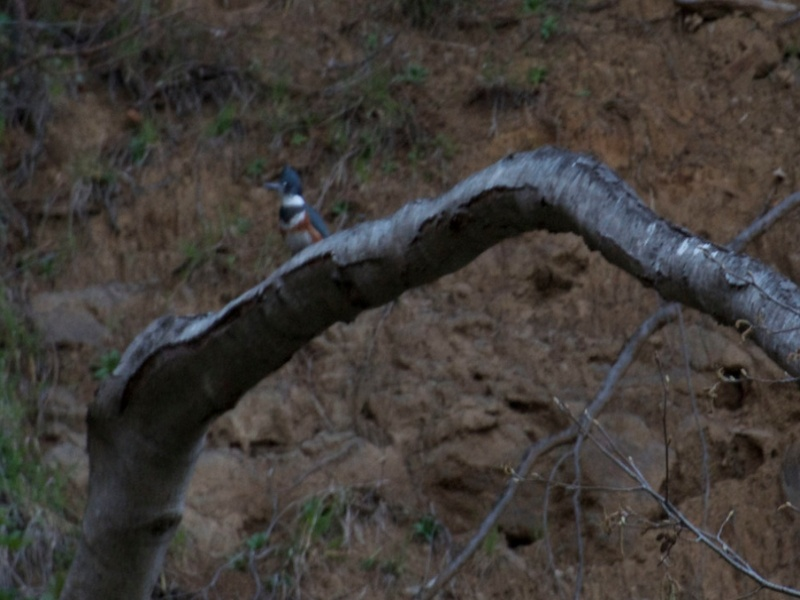kingfisher: (264, 167, 331, 262)
